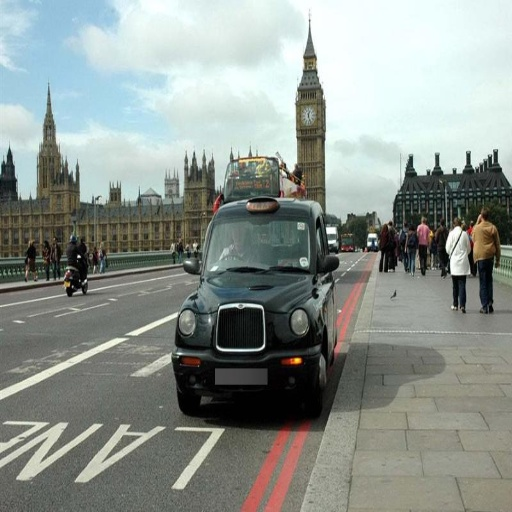back_bumper: (173, 324, 324, 387)
trunk: (196, 262, 309, 348)
